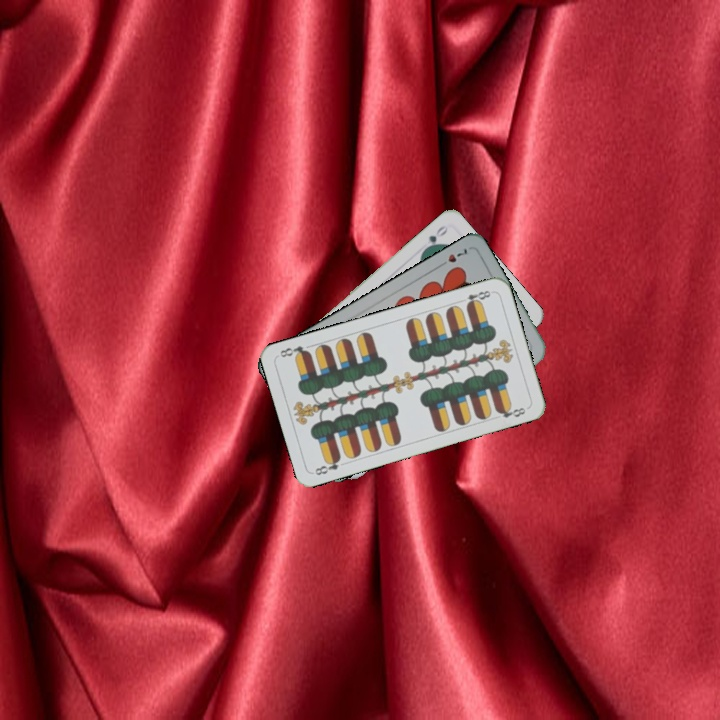E8: (311, 453, 343, 478), (462, 286, 495, 309)
GO: (419, 221, 451, 254)
H7: (434, 244, 470, 270)
